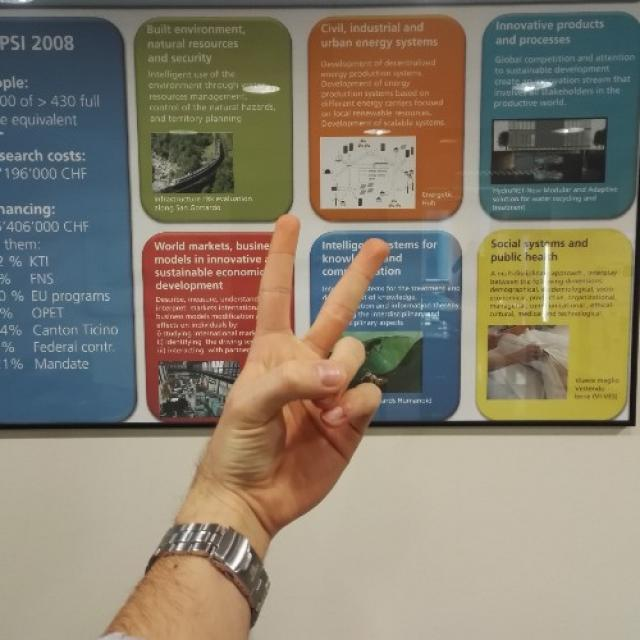scissors: (245, 210, 391, 504)
